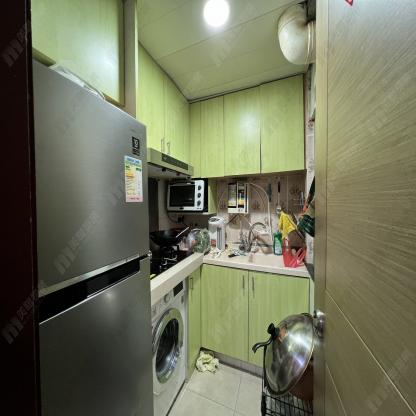Cupboard: (200, 73, 306, 178)
Exhaust Hood: (147, 147, 194, 179)
Faucet: (243, 220, 269, 255)
Fridge: (32, 61, 154, 416)
Oven: (167, 180, 204, 211)
Washing Machine: (151, 278, 187, 416)
